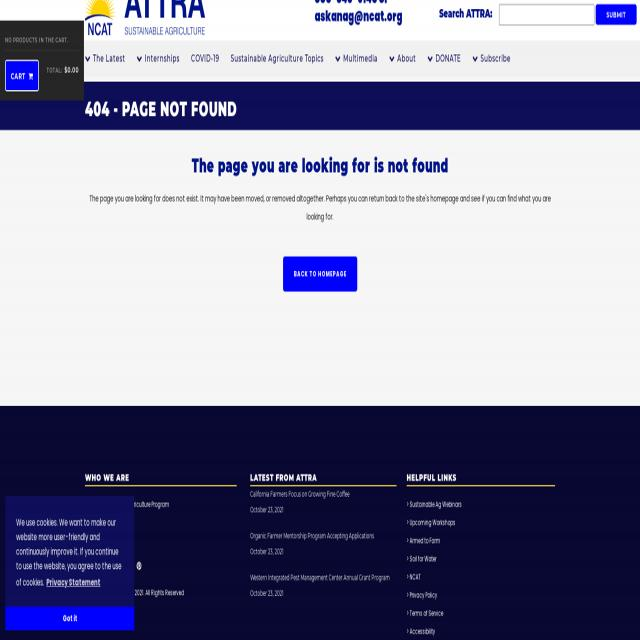button: (85, 0, 205, 35), (225, 40, 329, 76), (5, 607, 134, 630), (283, 256, 357, 292), (329, 40, 384, 76), (131, 40, 185, 76), (467, 40, 516, 76), (85, 40, 131, 76), (422, 40, 466, 76), (185, 40, 225, 76), (383, 40, 422, 76), (5, 60, 39, 91), (45, 574, 101, 592), (596, 3, 636, 25), (137, 562, 143, 571)
field: (499, 3, 595, 26)
